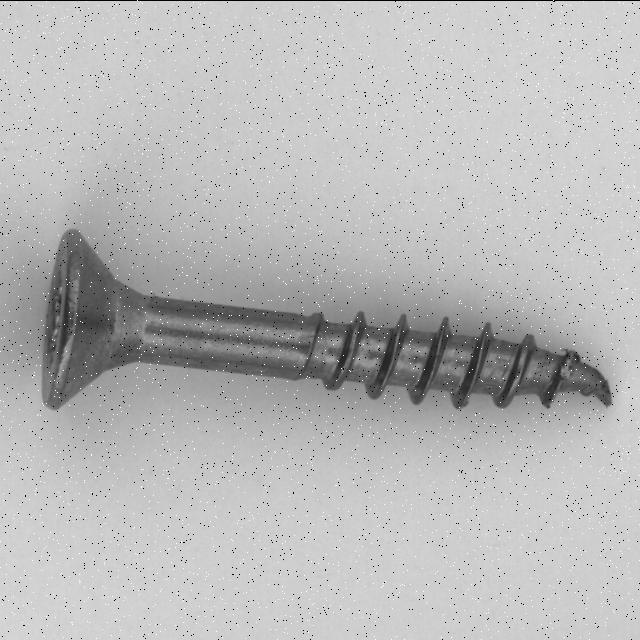manipulated_front: (578, 356, 632, 415)
